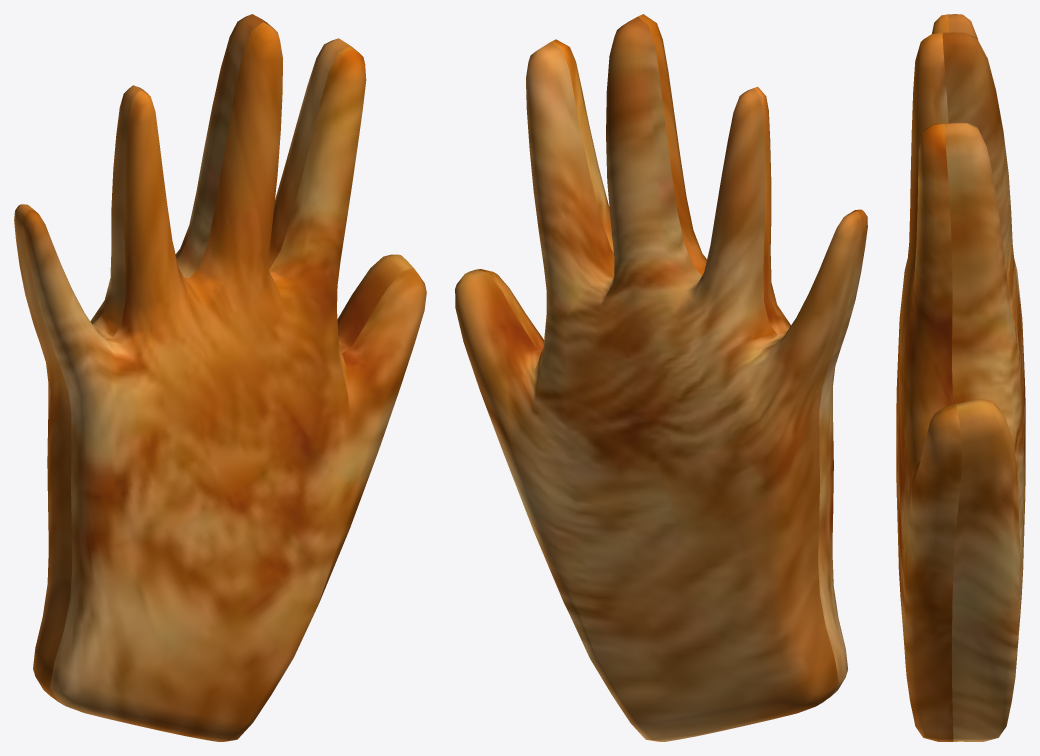
File: mana_4_a.fbx
3 views of the same model, side by side, from view 1: azimuth 30°, elevation 25°; view 2: azimuth 150°, elevation 25°; view 3: azimuth 270°, elevation 25° (orthographic). The views are drawn at different scales.
Visible parts, largest first — view 1: Cube; view 2: Cube; view 3: Cube.
Part boxes in pixels (x1,y1,x2,y2): Cube: (14,14,426,741); Cube: (455,14,867,741); Cube: (896,14,1025,741).
Size of the model in its own units: 257 by 440 by 70.61.
Materials: 1 (1 with a texture image).
